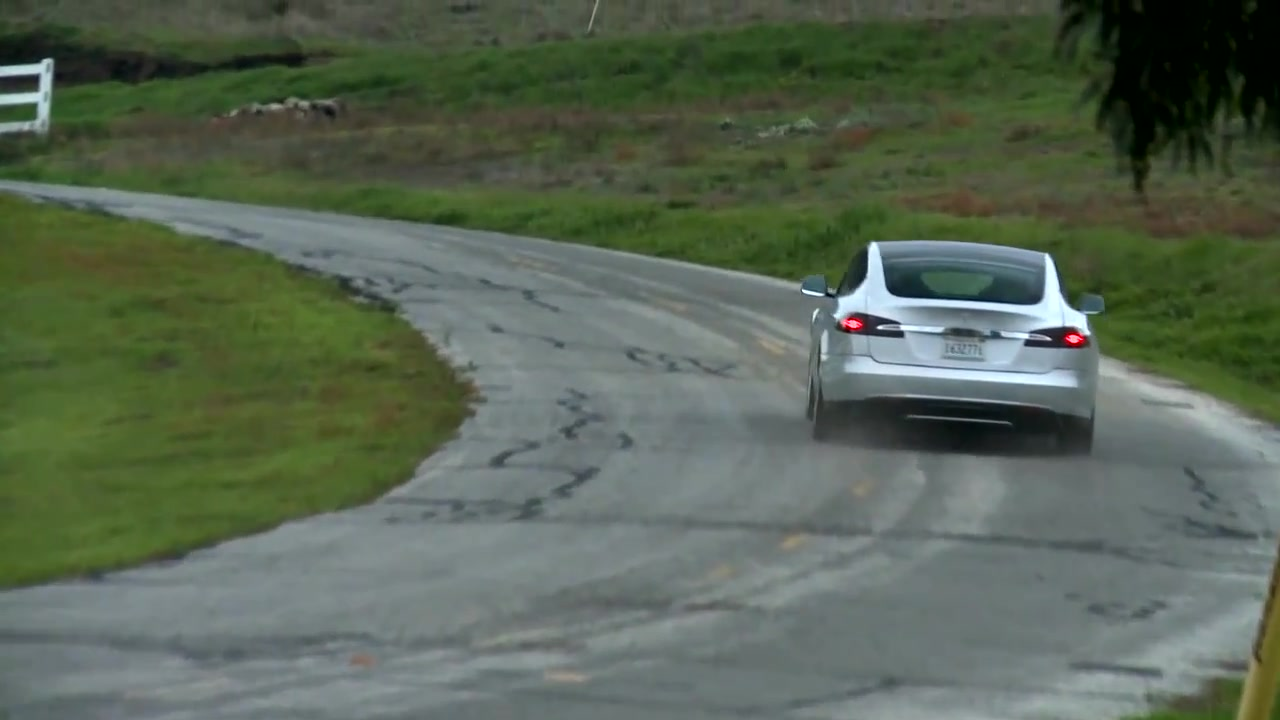car: (800, 236, 1107, 456)
